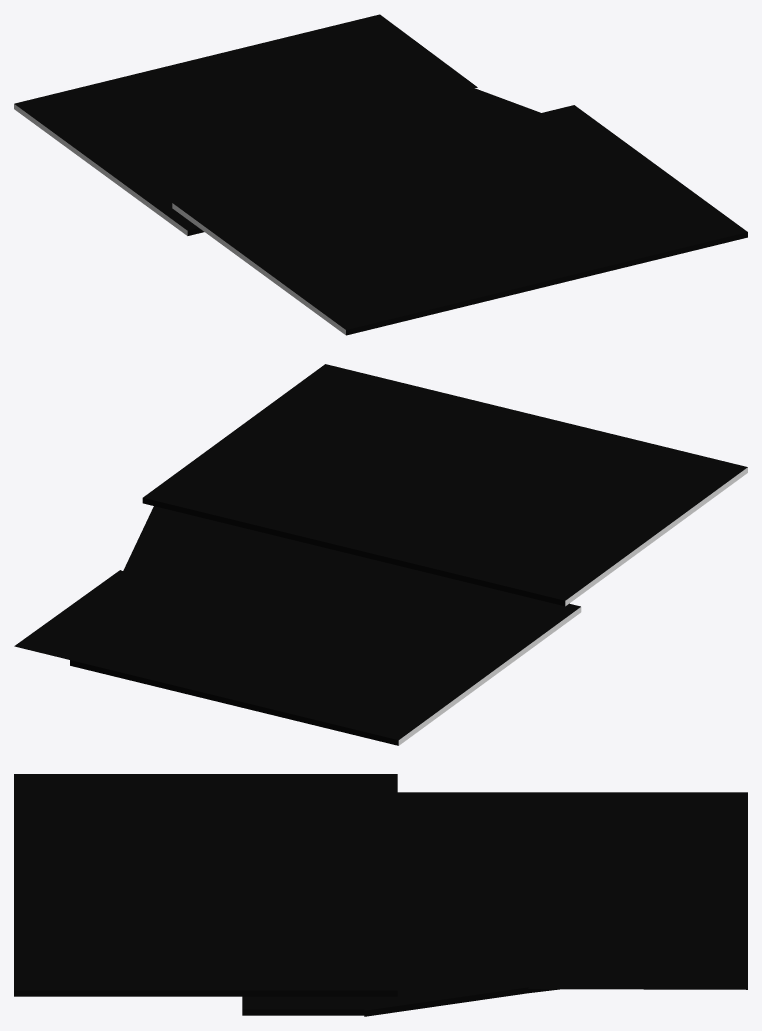
File: Techo1.obj
The picture shows the model from 3 angles, top to bottom: view 1: azimuth 30°, elevation 25°; view 2: azimuth 150°, elevation 25°; view 3: azimuth 270°, elevation 25°; orthographic projection. The views are drawn at different scales.
Size of the model in its own units: 24.5 by 1.28 by 34.79.
